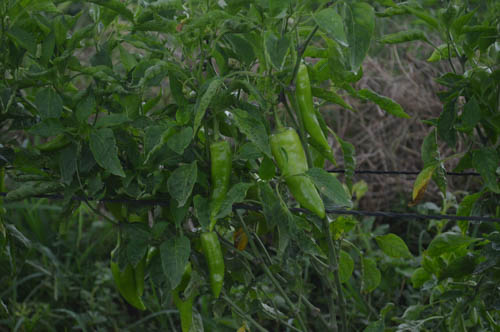ChiliPepper: (268, 129, 323, 217), (296, 70, 328, 148), (207, 141, 231, 229), (109, 251, 145, 309), (195, 228, 226, 294), (172, 257, 196, 326)
